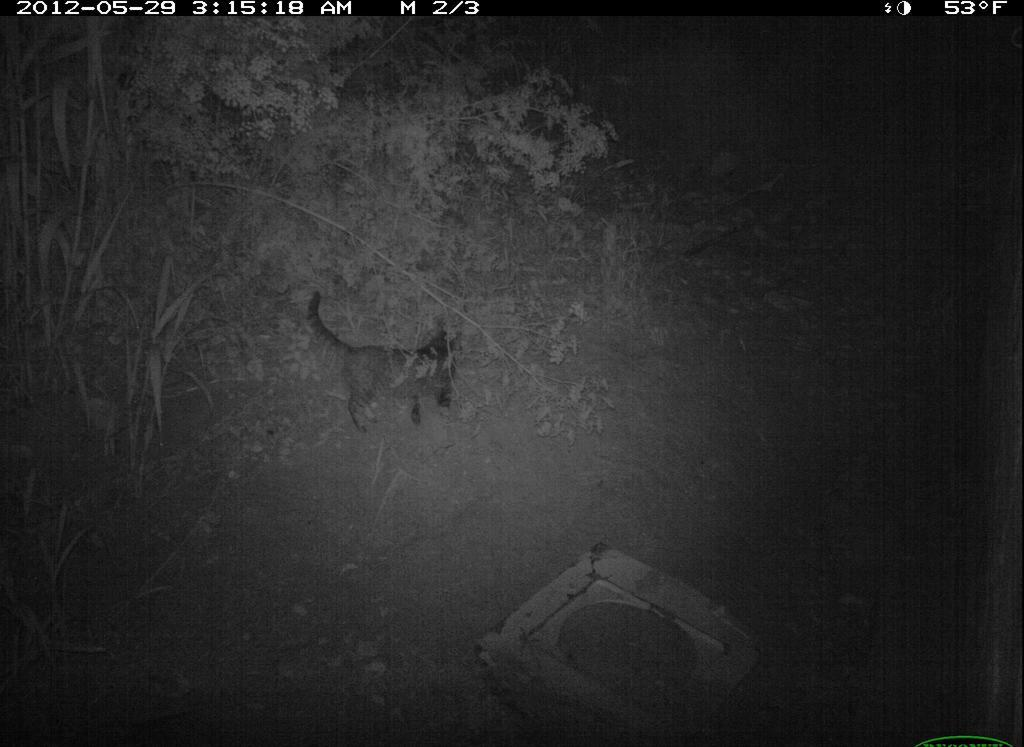cat: (300, 282, 481, 440)
